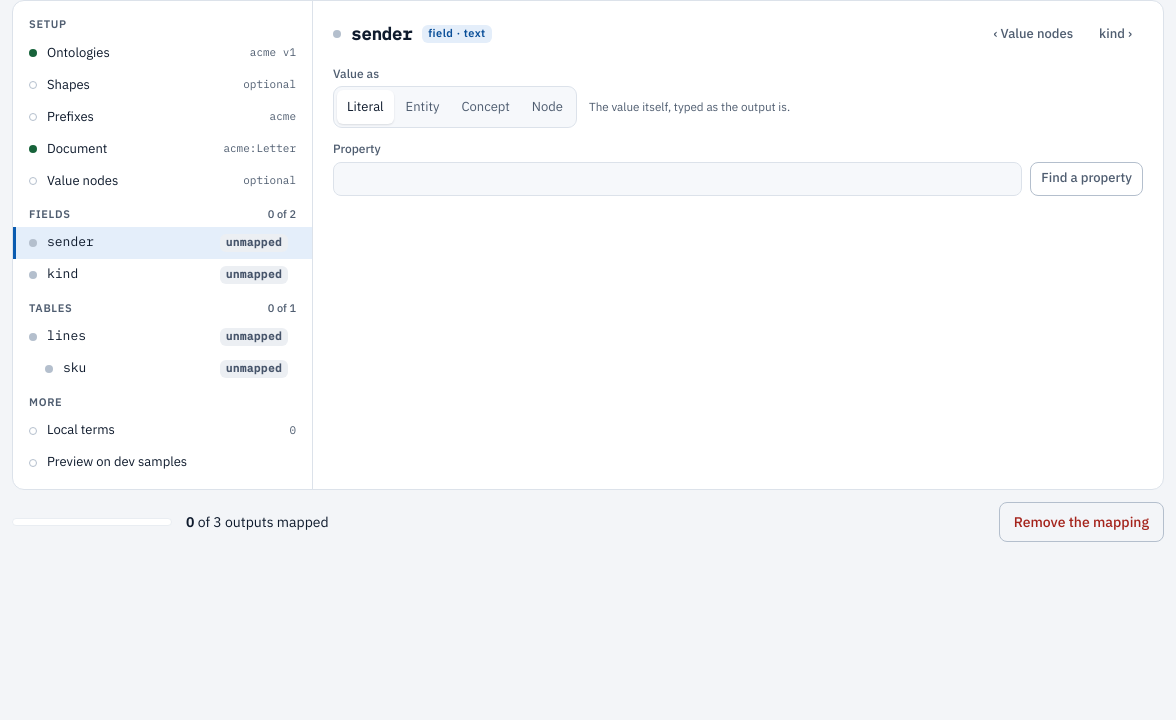
MappingEditor shapes (ADR 0011 step 5) › shows each previewed sample violations
Step 1. Click the button "Preview on dev samples" → (162, 463), box [13,447,312,479]
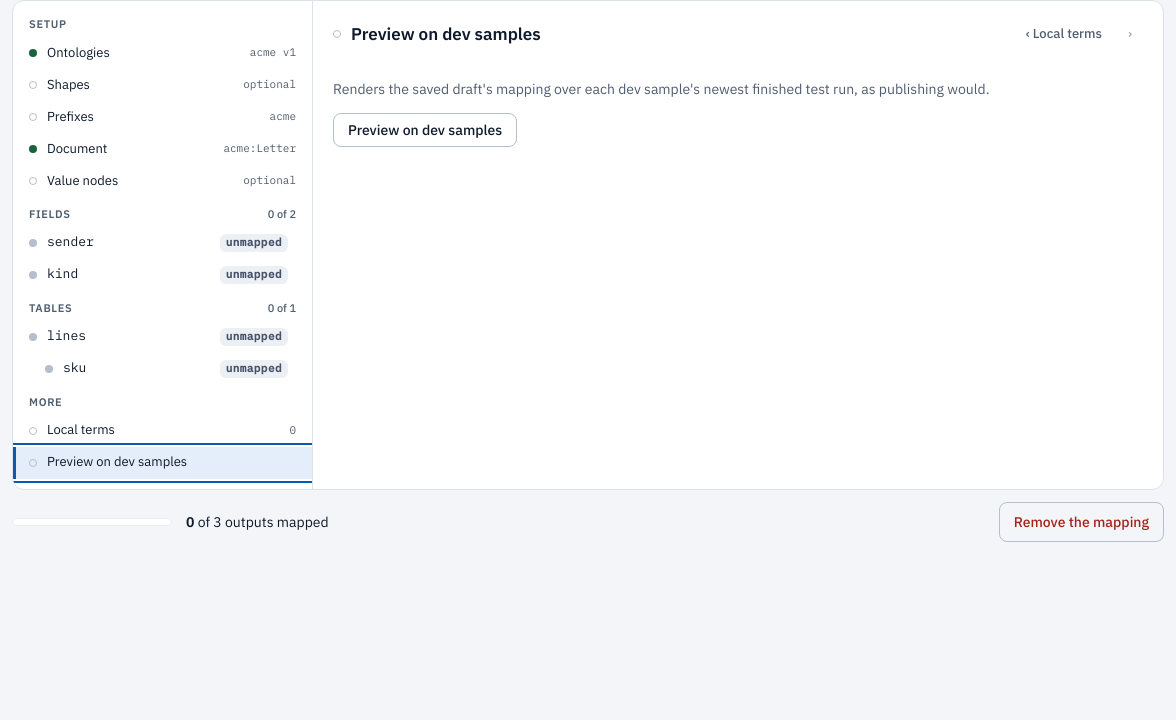
Step 2. Click the 1st button "Preview on dev samples" → (425, 130), box [333,113,517,147]
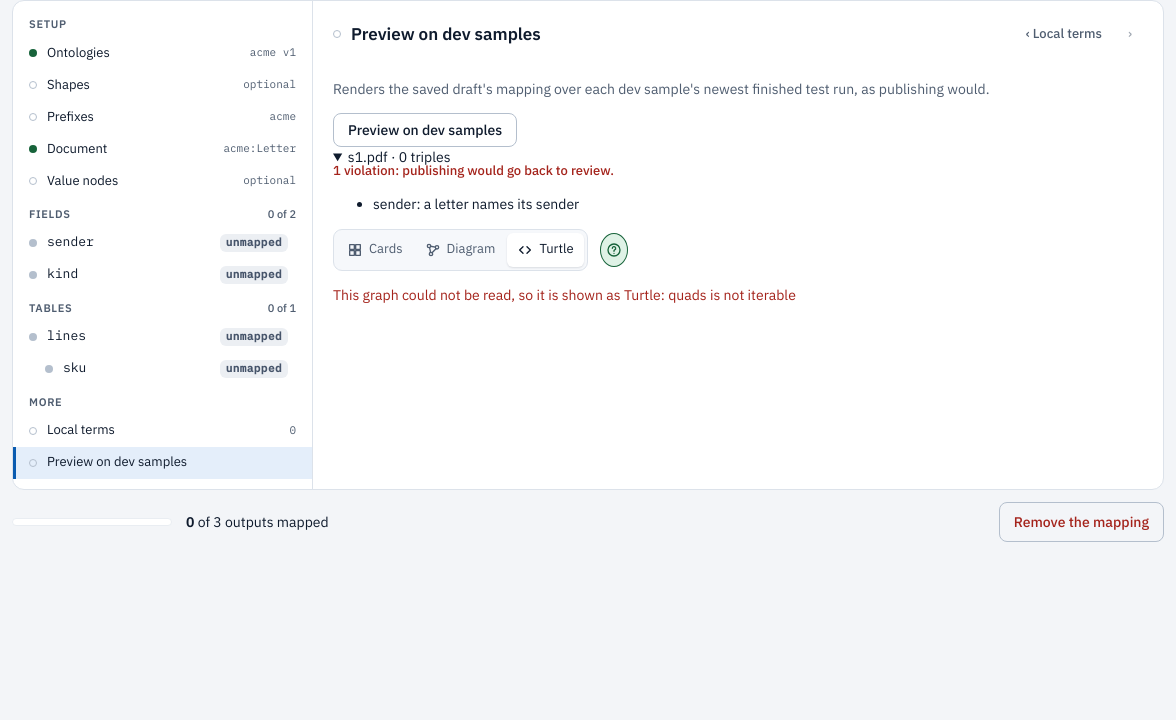
Expected: the text "1 violation: publishing would go back to review." is shown, [333,162,614,179]
Expected: the list item "sender: a letter names its sender" is shown, [373,195,579,213]
